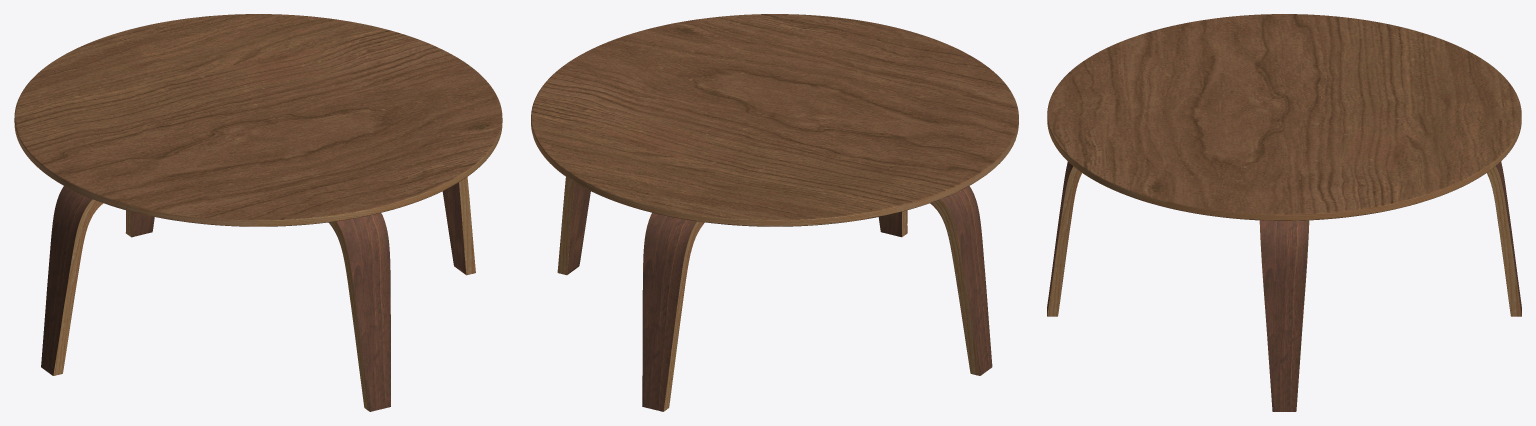
File: LGLY2659_v6_LOD2.obj
3 renders of one model, left to right at view 1: azimuth 30°, elevation 25°; view 2: azimuth 150°, elevation 25°; view 3: azimuth 270°, elevation 25°, orthographic. The views are drawn at different scales.
Visible parts, largest first — view 1: not_clear_obj_2_v6, not_clear_obj_0_v6, not_clear_obj_1_v6; view 2: not_clear_obj_2_v6, not_clear_obj_0_v6, not_clear_obj_1_v6; view 3: not_clear_obj_2_v6, not_clear_obj_0_v6, not_clear_obj_1_v6.
Part boxes in pixels (x1,y1,x2,y2): not_clear_obj_2_v6: [14, 14, 502, 226]; not_clear_obj_0_v6: [19, 137, 497, 411]; not_clear_obj_1_v6: [14, 118, 502, 411]; not_clear_obj_2_v6: [531, 14, 1018, 226]; not_clear_obj_0_v6: [548, 155, 994, 411]; not_clear_obj_1_v6: [531, 114, 1018, 411]; not_clear_obj_2_v6: [1047, 14, 1521, 220]; not_clear_obj_0_v6: [1047, 160, 1521, 411]; not_clear_obj_1_v6: [1047, 118, 1521, 397].
Size of what is drawn, in the model's own units: 87 by 40.01 by 87.
3 materials, 3 textured.
